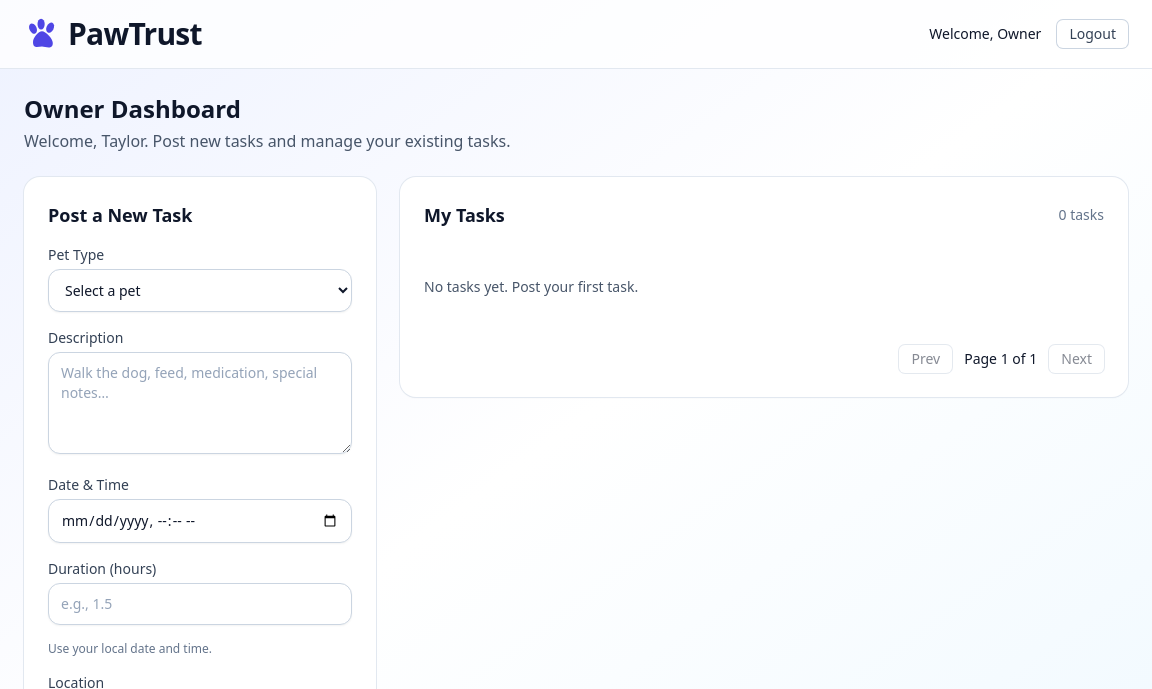
Test: loads owner tasks with Bearer authentication and refetches after posting
Check: the text "No tasks yet. Post your first task." is shown, box [424,277,638,296]
Select "Dog" in the dropdown labelled "Pet Type" at x=200, y=290, box [48,269,352,312]
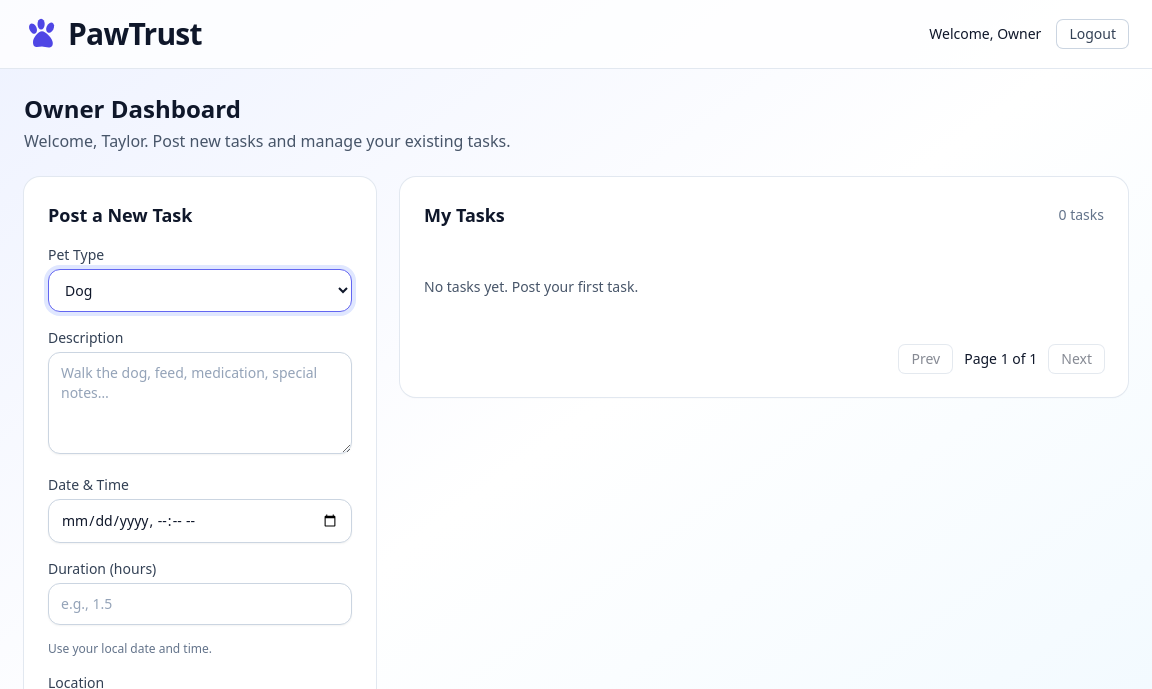
Type "Walk the dog" into the text box labelled "Description" at x=200, y=403, box [48,352,352,454]
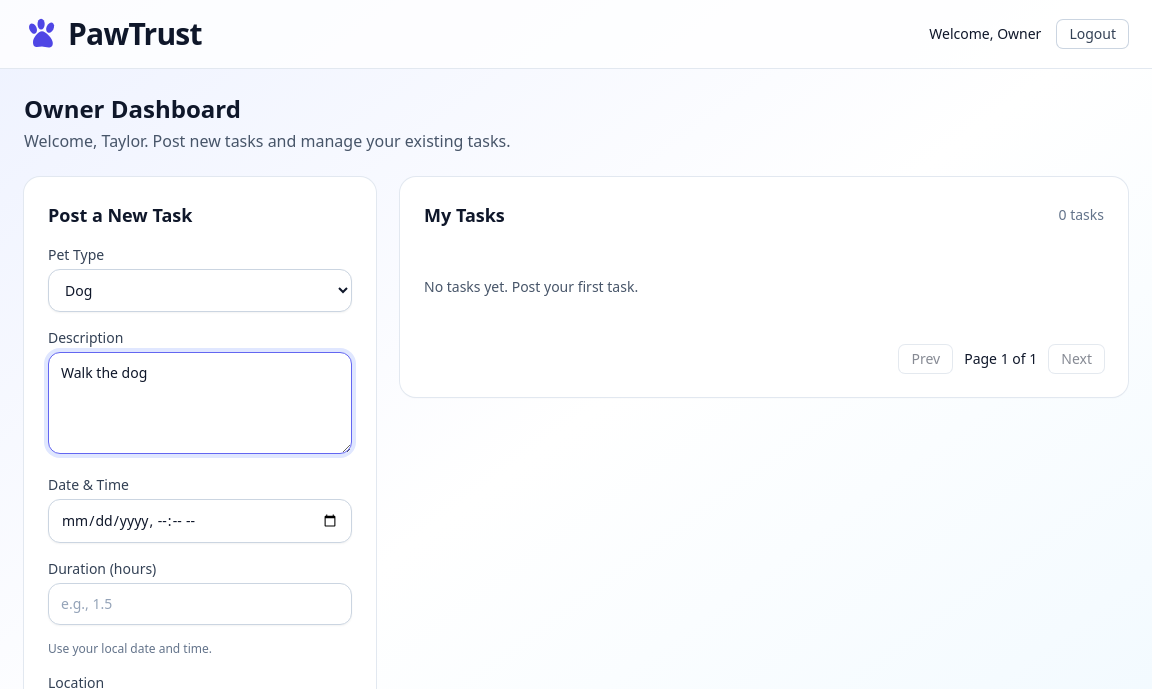
Type "2099-12-01T10:00" into the field labelled "Date & Time" at x=200, y=521, box [48,499,352,543]
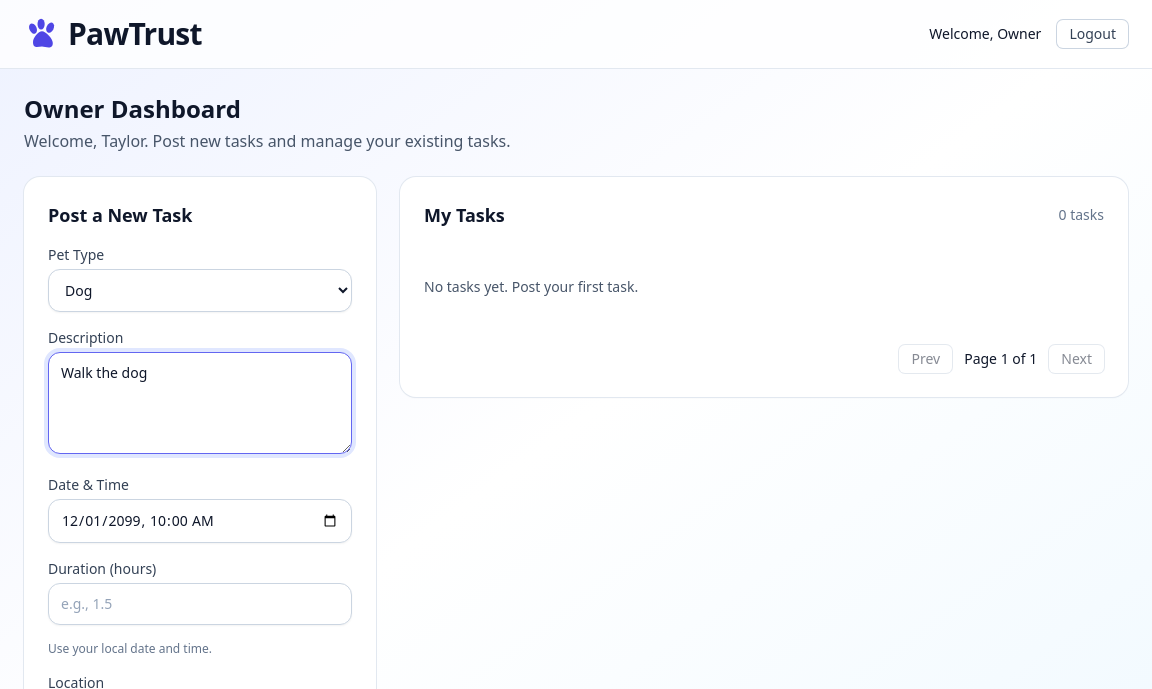
Type "1.5" into the number field labelled "Duration (hours)" at x=200, y=604, box [48,583,352,625]
(page scrolled)
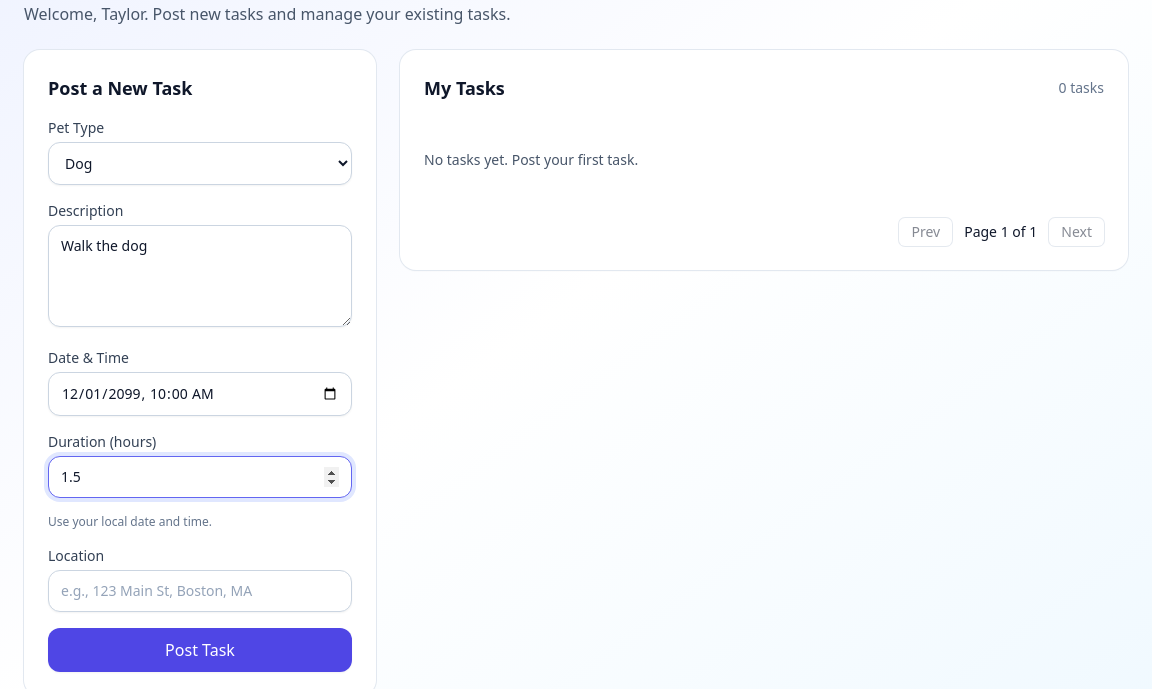
Type "Boston" into the field labelled "Location" at x=200, y=591, box [48,570,352,612]
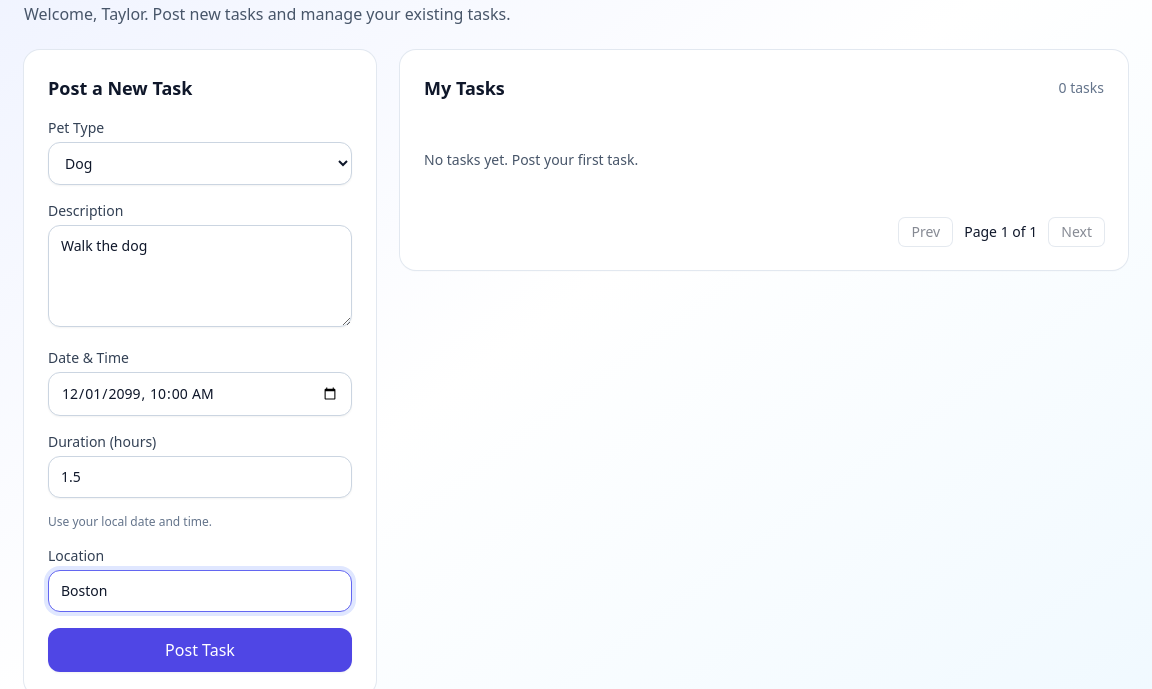
Click the button "Post Task" at x=200, y=650, box [48,628,352,672]
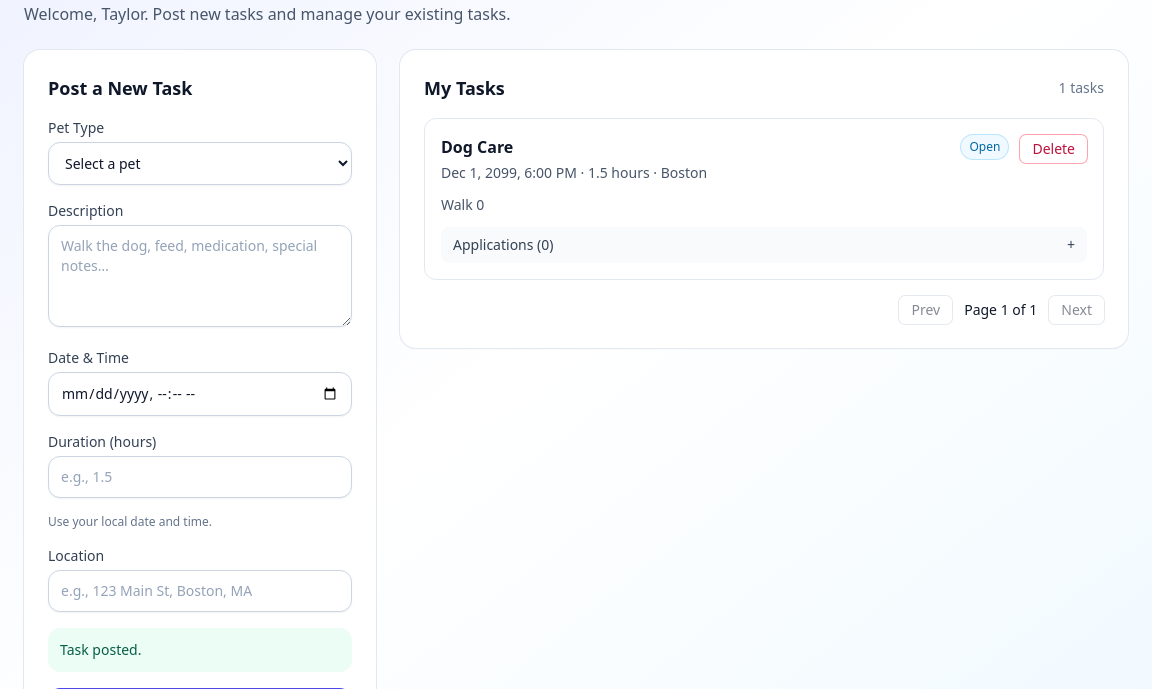
Check: the text "Walk 0" is shown, box [441,195,484,214]
